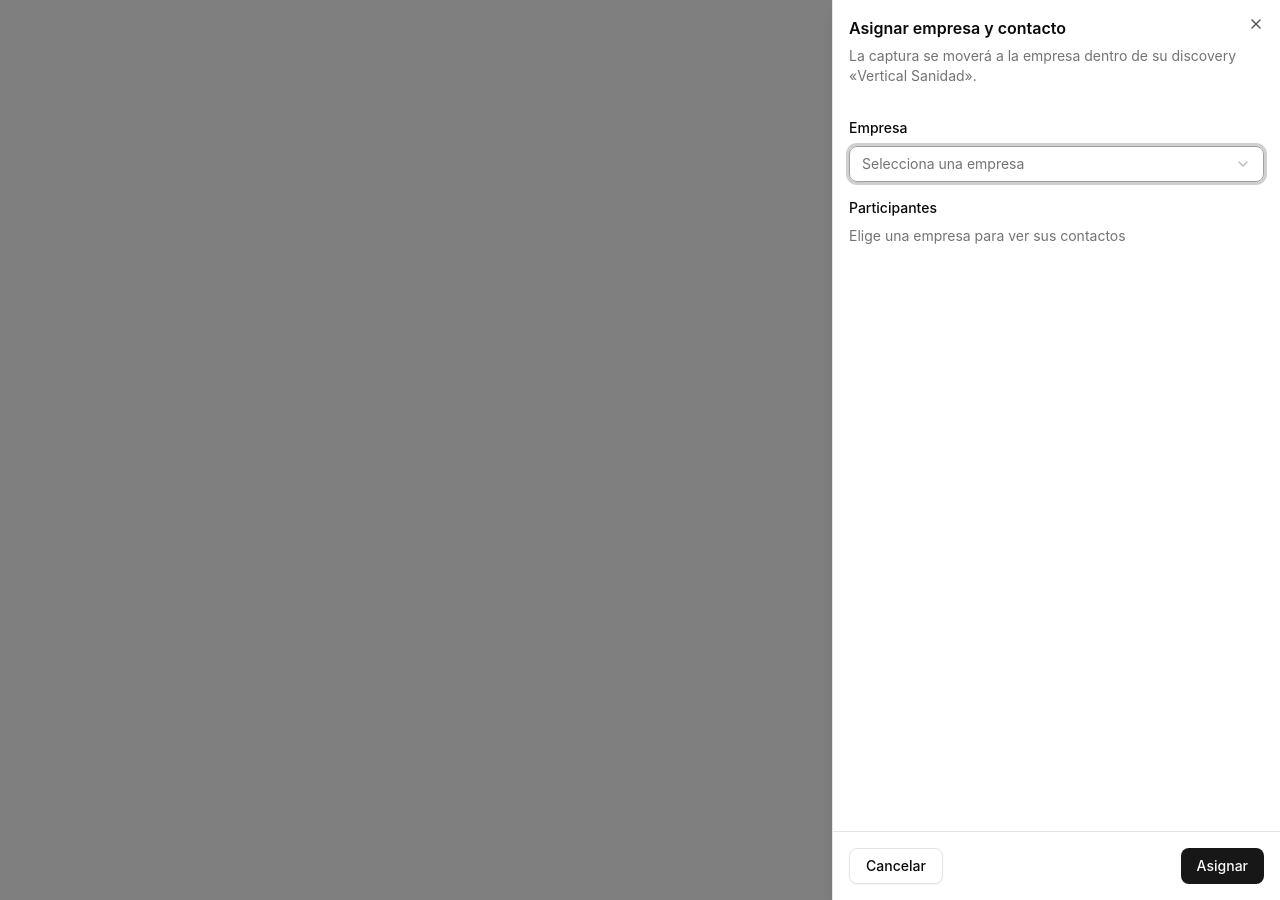
Scenario: AssignCompanySheet › empties the marked participants selection when the company select changes
Click the dropdown labelled "empresa" at (943, 164), box [849,146,1264,182]
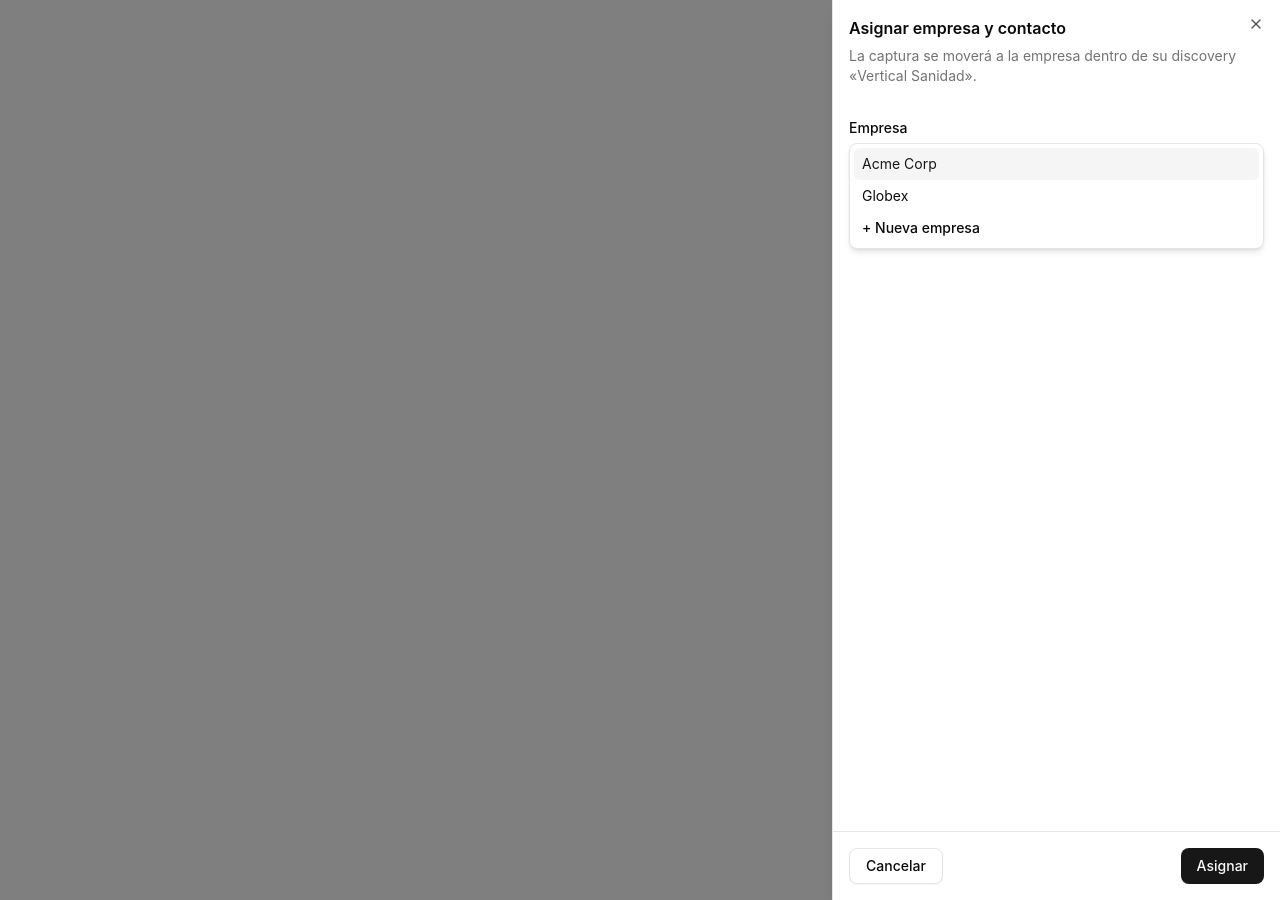
Click the option "Acme Corp" at (899, 164), box [854,148,1259,180]
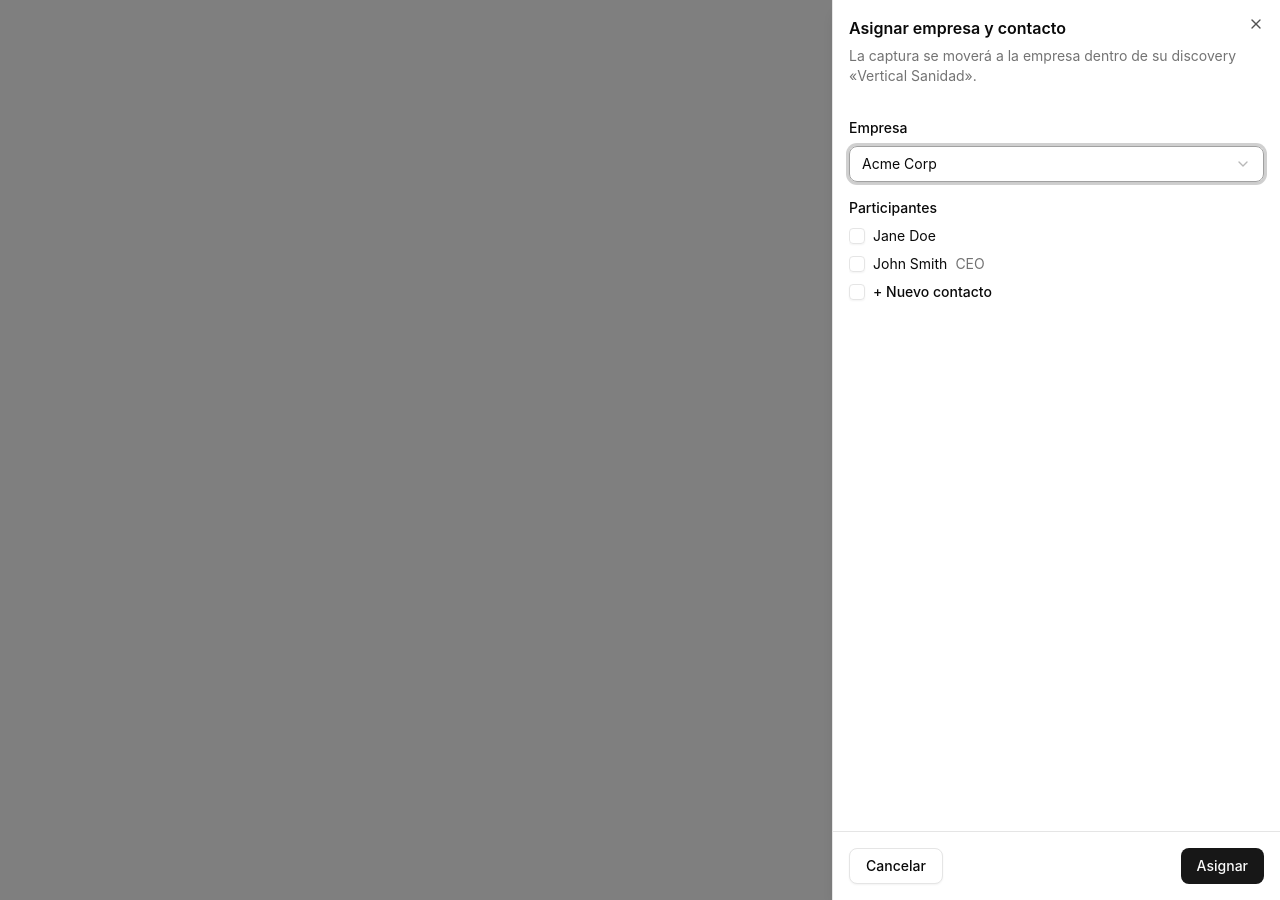
Click the checkbox named "Jane Doe" next to "Jane Doe" at (857, 236), box [849,228,865,244]
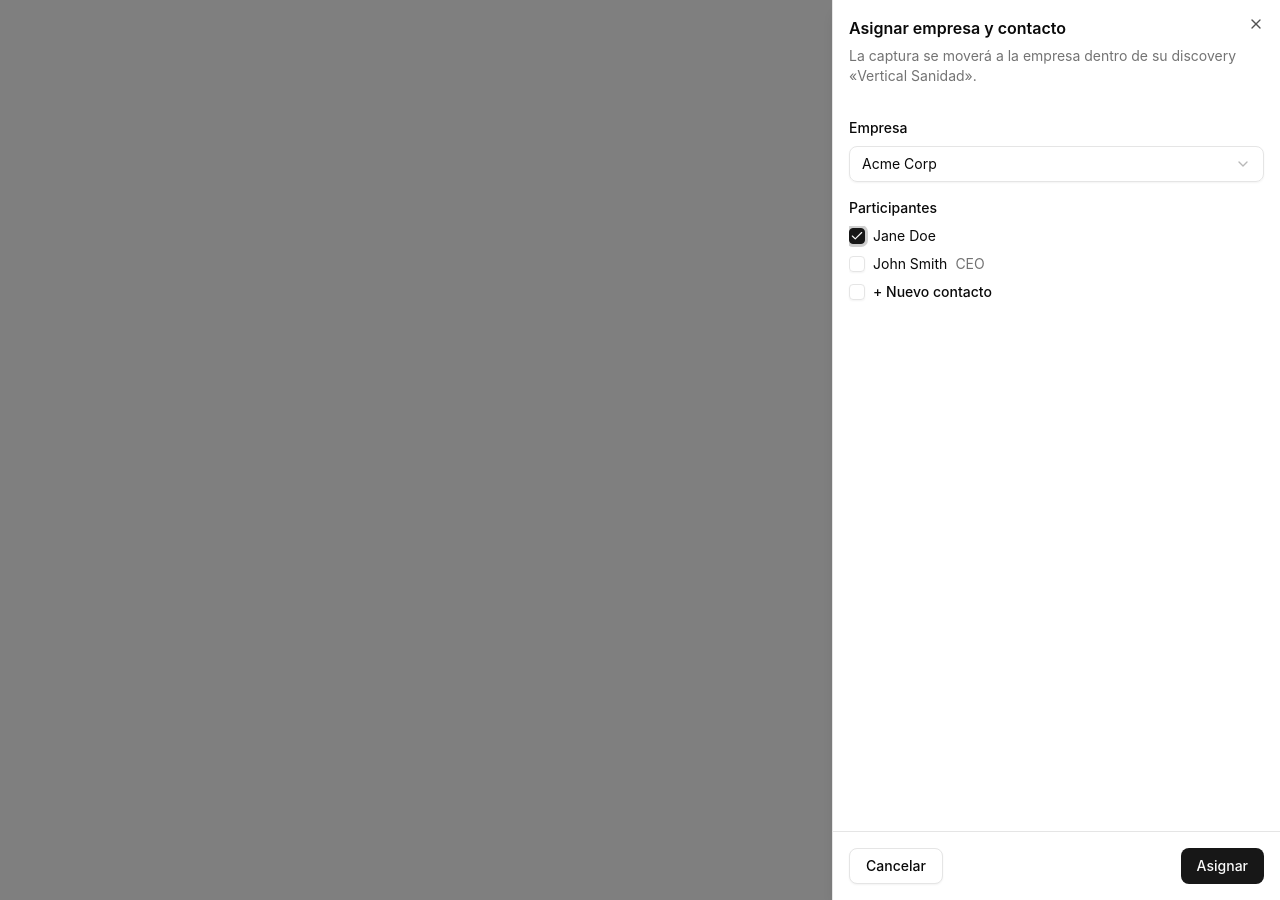
Check: the checkbox named "Jane Doe" next to "Jane Doe" is checked, box [849,228,865,244]
Click the dropdown named "Empresa" at (899, 164), box [849,146,1264,182]
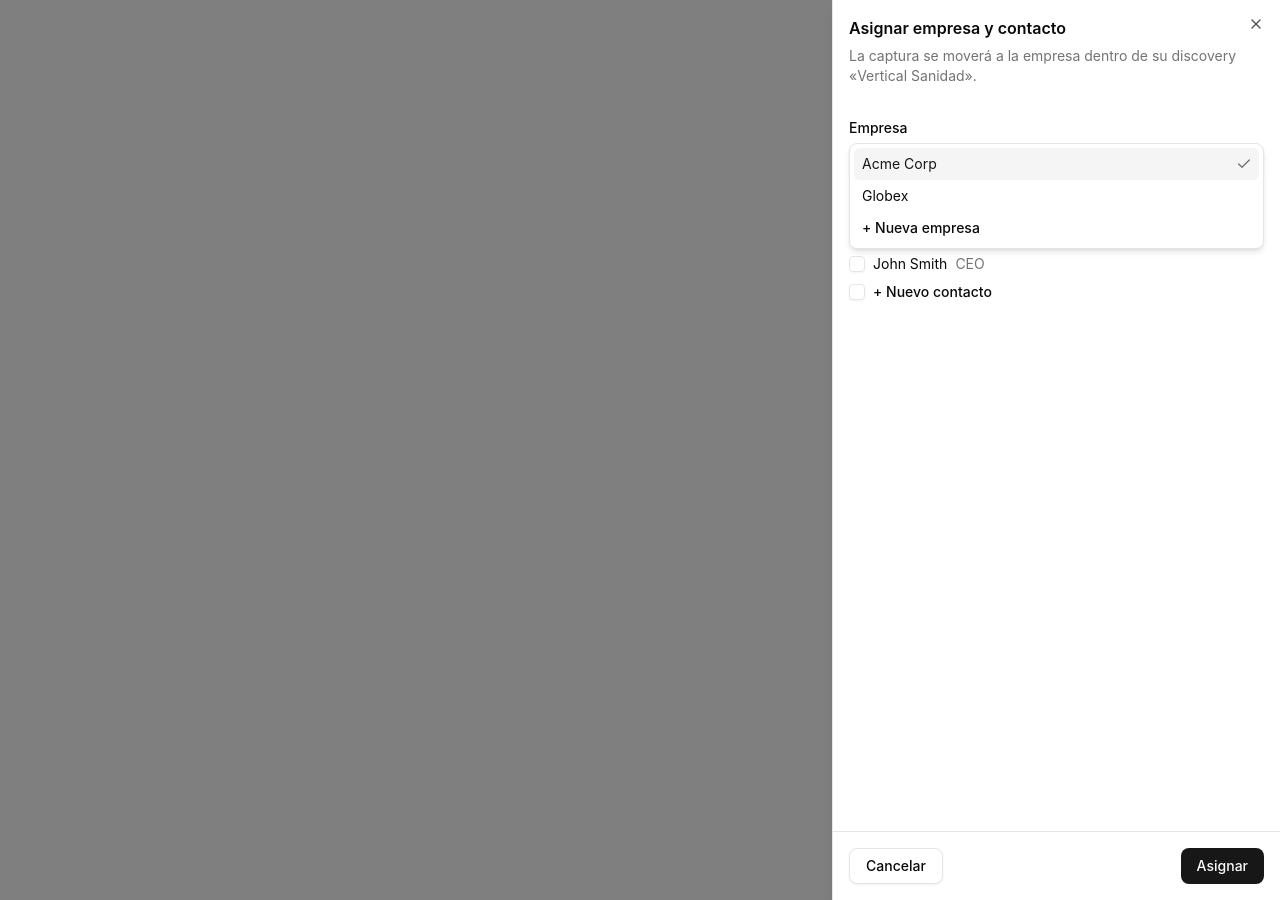
Click the option "Globex" at (885, 196), box [862,187,908,204]
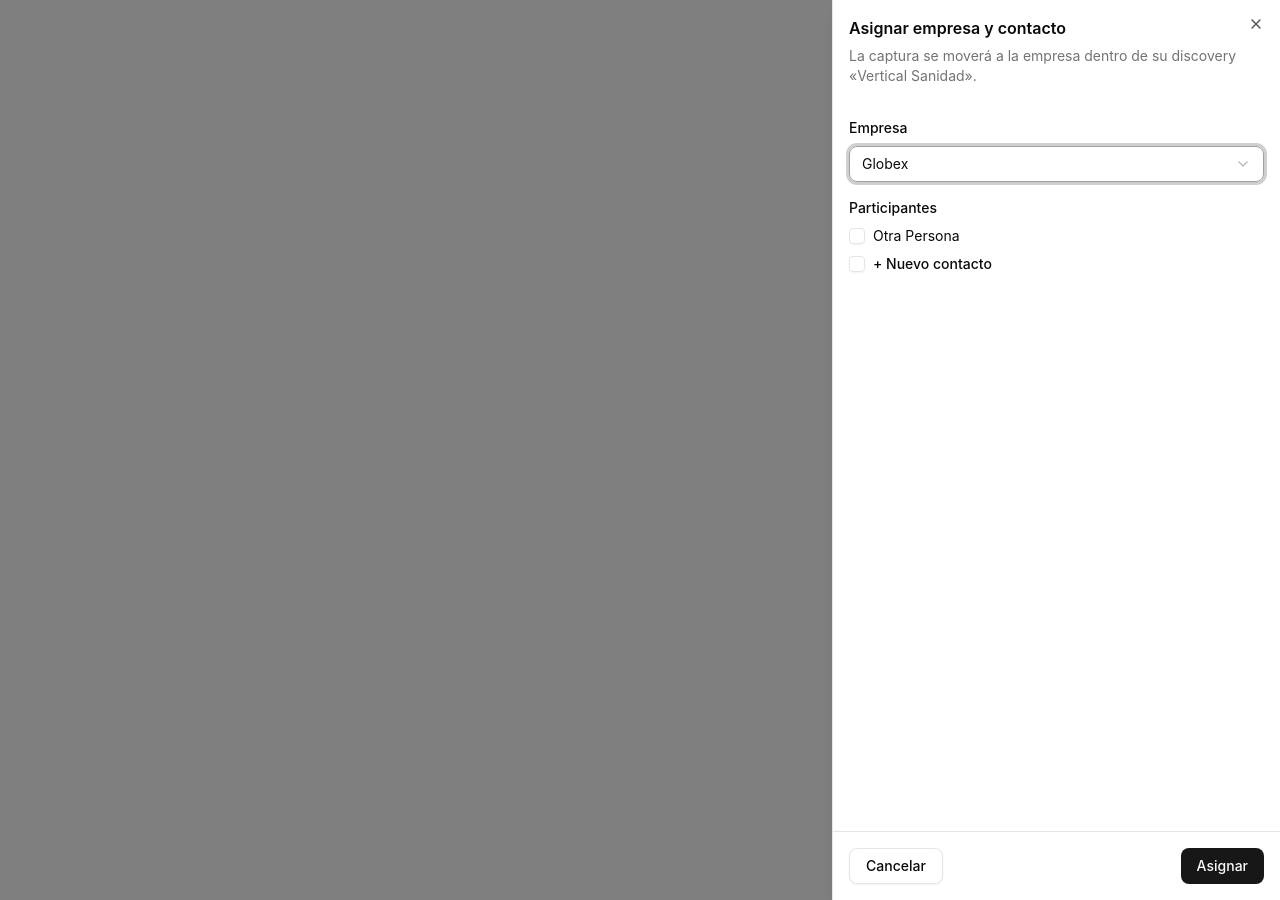
Check: the checkbox named "Otra Persona" next to "Otra Persona" is not checked, box [849,228,865,244]
Check: the text "Jane Doe" is gone
